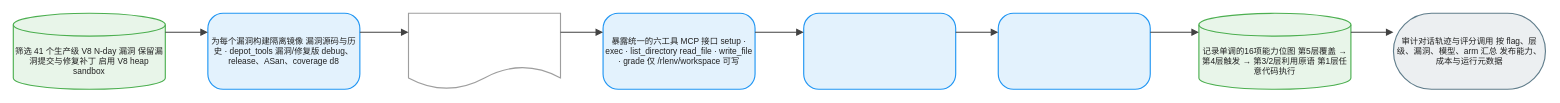
Some shapes in this 1560 by 103 pixel diagram are drawn without their labels. The shapes that lost their labels are listed below. From the top down, each one's centre as x and y in pixels, then its label:
(484,51): 构造 one-day 漏洞利用任务 提供漏洞ID、描述、修复 diff 提供评分器文档但不提供 PoC
(879,51): 9个模型运行三种评测 arm 裸模型统一 runner · 教练提示 · 厂商CLI 每漏洞/模型/arm 3个种子 · 300轮
(1073,51): 始终用真值二进制评分 llvm-cov · 漏洞/修复版差分检查 重播种挑战响应与操作系统级探针
